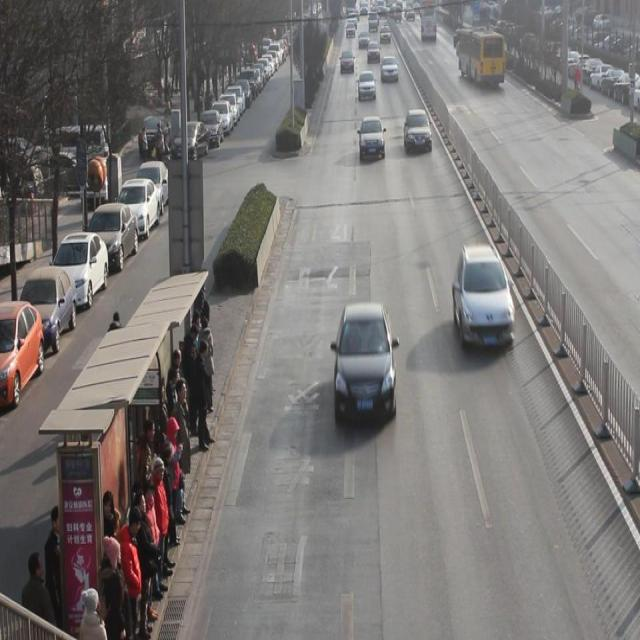car: (335, 306, 398, 428), (453, 246, 516, 354), (403, 111, 432, 157), (359, 117, 385, 163), (358, 72, 376, 104), (380, 57, 399, 86)
van: (456, 29, 505, 86)
